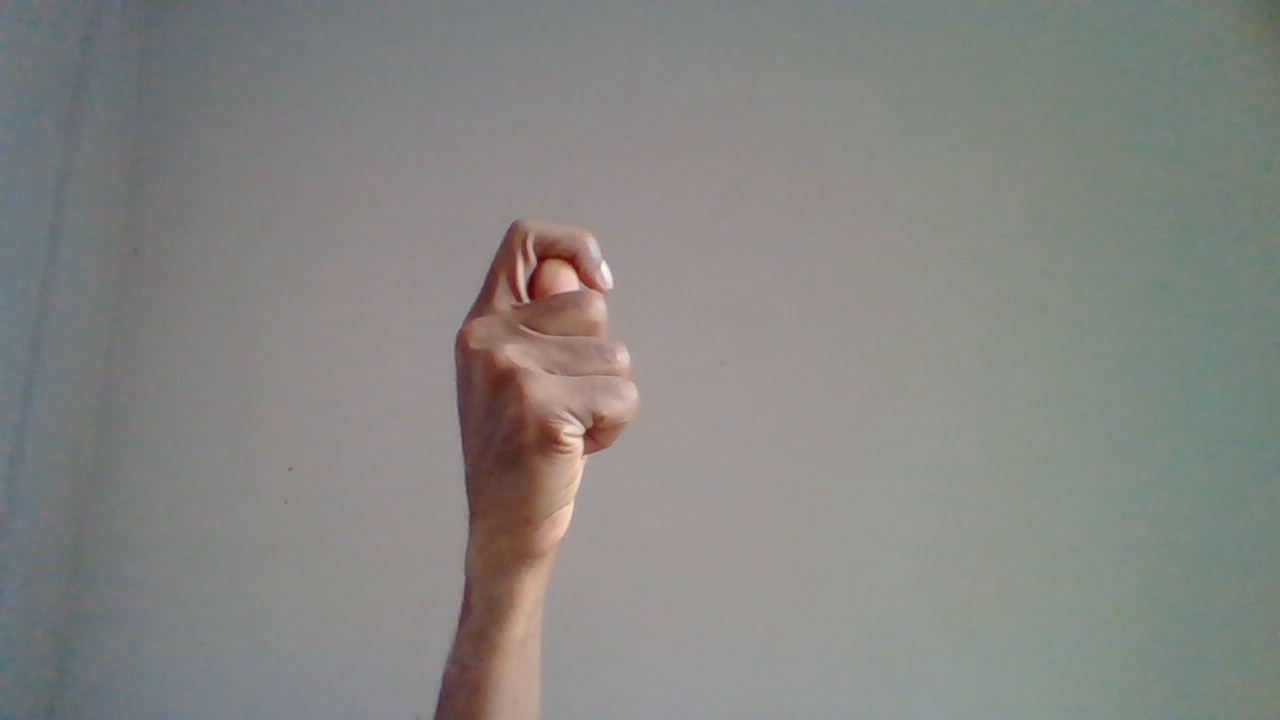che: (451, 216, 627, 702)
